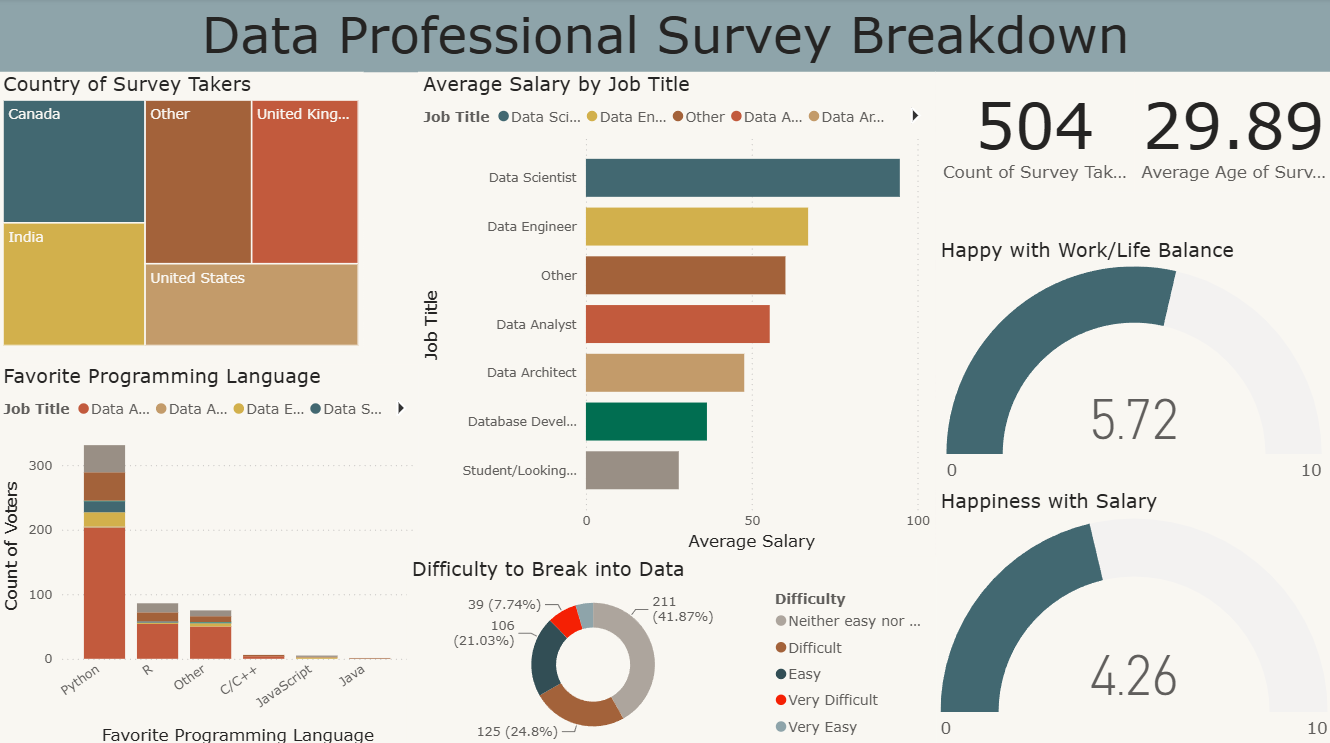

The dashboard page shown, as its layout file describes it:
{"tool":"powerbi","page":{"name":"Page 1","canvas":[1280,720],"ordinal":0},"visuals":[{"type":"textbox","box":[0,0,1280.3,71.3],"z":0},{"type":"card","fields":{"Values":["Count(Data Professional Survey.Unique ID)"]},"box":[899.1,71.3,190.6,116.4],"z":1000},{"type":"card","fields":{"Values":["Avg(Data Professional Survey.Q10 - Current Age)"]},"box":[1089.7,71.3,190.6,116.4],"z":2000},{"type":"barChart","title":"Average Salary by Job Title","fields":{"Category":["Data Professional Survey.Q1 - Which Title Best Fits your Current Role?.1"],"Y":["Avg(Data Professional Survey.Average Salary)"],"Series":["Data Professional Survey.Q1 - Which Title Best Fits your Current Role?.1"]},"box":[403,71.3,496.1,464.1],"z":3000},{"type":"columnChart","title":"Favorite Programming Language","fields":{"Category":["Data Professional Survey.Q5 - Favorite Programming Language.1"],"Y":["CountNonNull(Data Professional Survey.Unique ID)"],"Series":["Data Professional Survey.Q1 - Which Title Best Fits your Current Role?.1"]},"box":[0,350.6,403,369.5],"z":4000},{"type":"treemap","title":"Country of Survey Takers","fields":{"Group":["Data Professional Survey.Q11 - Which Country do you live in?.1"],"Values":["Count(Data Professional Survey.Q11 - Which Country do you live in?.1)"]},"box":[0,71.3,350.6,267.7],"z":5000},{"type":"gauge","title":"Happiness with Salary","fields":{"Y":["Avg(Data Professional Survey.Q6 - How Happy are you in your Current Position with the following? (Salary))"],"MinValue":["Min(Data Professional Survey.Q6 - How Happy are you in your Current Position with the following? (Salary))"],"MaxValue":["Max(Data Professional Survey.Q6 - How Happy are you in your Current Position with the following? (Salary))"]},"box":[899.1,471.4,381.2,248.8],"z":5001},{"type":"gauge","title":"Happy with Work/Life Balance","fields":{"Y":["Avg(Data Professional Survey.Q6 - How Happy are you in your Current Position with the following? (Work/Life Balance))"],"MinValue":["Min(Data Professional Survey.Q6 - How Happy are you in your Current Position with the following? (Work/Life Balance))"],"MaxValue":["Max(Data Professional Survey.Q6 - How Happy are you in your Current Position with the following? (Work/Life Balance))1"]},"box":[899.1,229.9,381.2,241.5],"z":5002},{"type":"donutChart","title":"Difficulty to Break into Data","fields":{"Category":["Data Professional Survey.Q7 - How difficult was it for you to break into Data?"],"Y":["CountNonNull(Data Professional Survey.Q7 - How difficult was it for you to break into Data?)"]},"box":[391.4,535.4,507.8,184.8],"z":5003}]}

Visuals, with their boxes in screenshot pixels (x1, y1, x2, y2), scaled from the page's 1280x720 canvas onto the 1330x743 screenshot:
textbox: x1=0 y1=0 x2=1329 y2=74
card - Count(Data Professional Survey.Unique ID): x1=934 y1=74 x2=1132 y2=194
card - Avg(Data Professional Survey.Q10 - Current Age): x1=1132 y1=74 x2=1329 y2=194
"Average Salary by Job Title" barChart: x1=419 y1=74 x2=934 y2=553
"Favorite Programming Language" columnChart: x1=0 y1=362 x2=419 y2=742
"Country of Survey Takers" treemap: x1=0 y1=74 x2=364 y2=350
"Happiness with Salary" gauge: x1=934 y1=486 x2=1329 y2=742
"Happy with Work/Life Balance" gauge: x1=934 y1=237 x2=1329 y2=486
"Difficulty to Break into Data" donutChart: x1=407 y1=553 x2=934 y2=742
